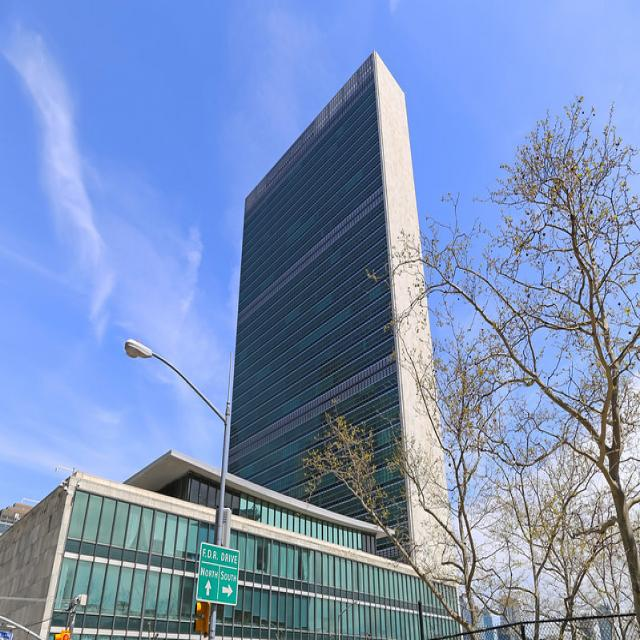Normal_building: (215, 43, 462, 616)
